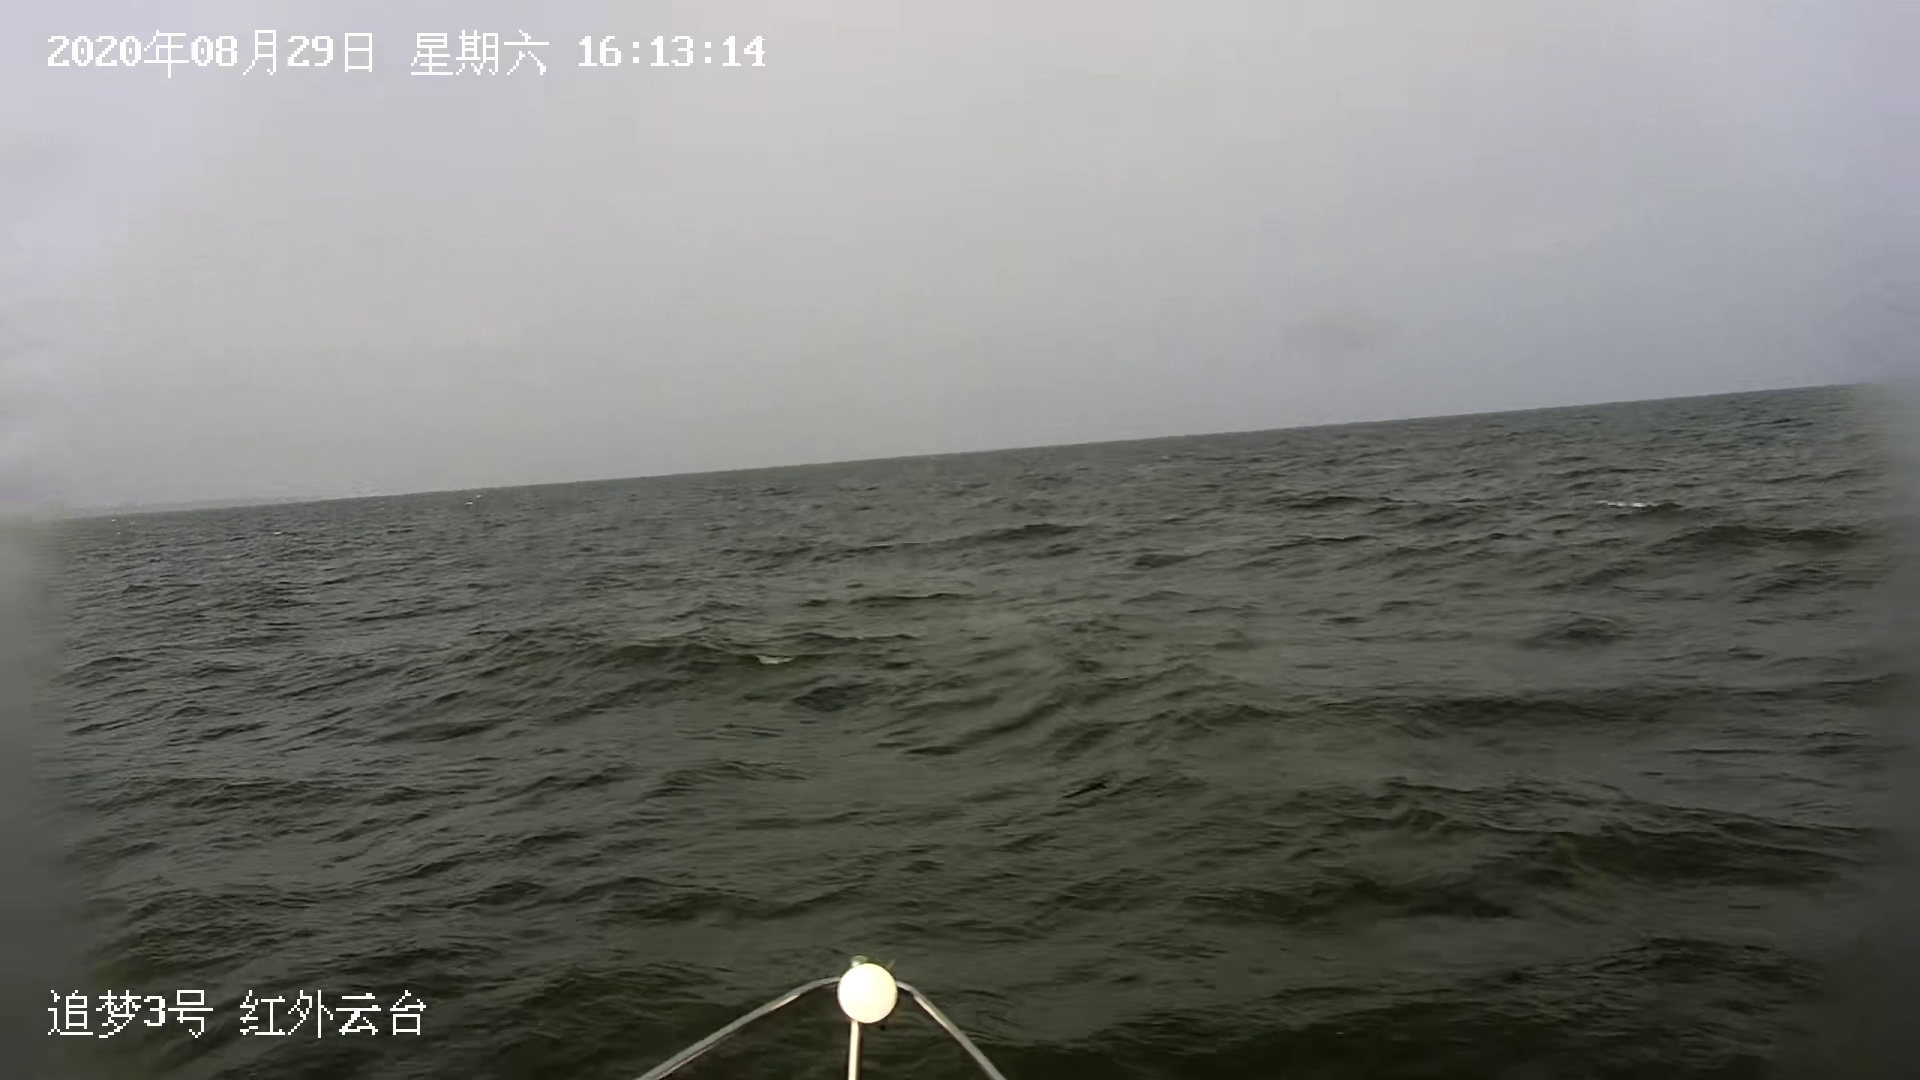coast: (46, 495, 390, 521)
